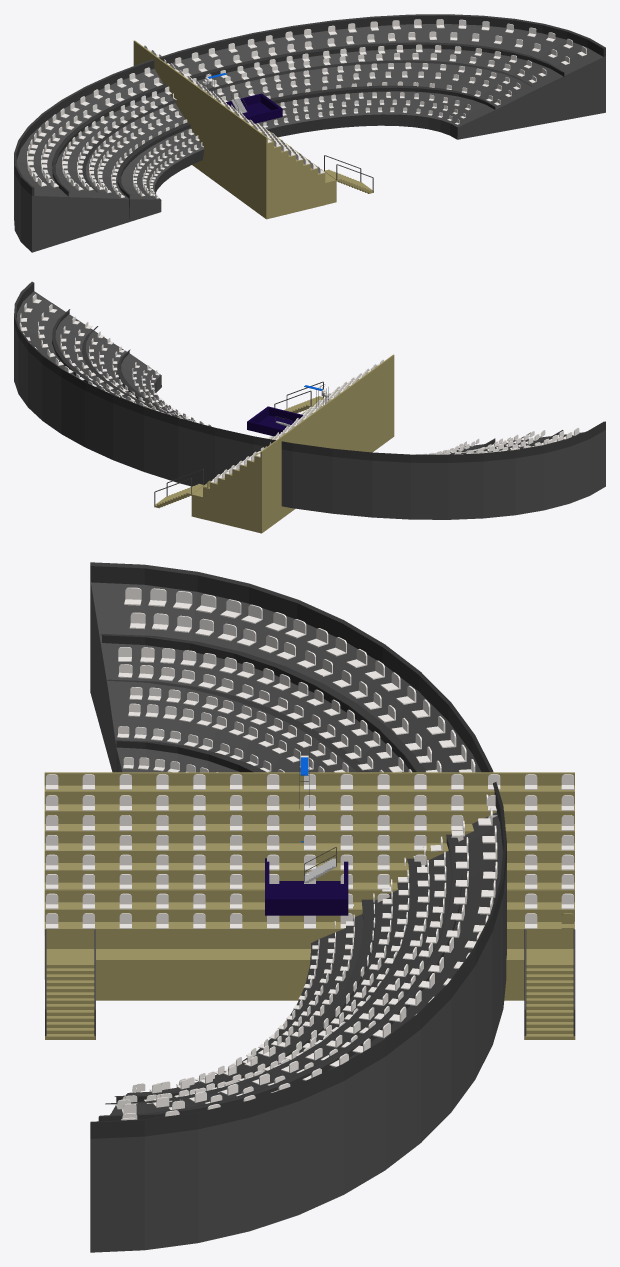
The model's file is yeni çevre.fbx.
The picture shows the model from 3 angles, top to bottom: view 1: azimuth 30°, elevation 25°; view 2: azimuth 150°, elevation 25°; view 3: azimuth 270°, elevation 25°; orthographic projection. The views are drawn at different scales.
Visible parts, largest first — view 1: büyük stad, KOLTUKLU STAD, HAVUZ; view 2: büyük stad, KOLTUKLU STAD, HAVUZ; view 3: büyük stad, KOLTUKLU STAD, HAVUZ.
Part boxes in pixels (bbox=[...]): büyük stad: bbox=[14, 14, 605, 252]; KOLTUKLU STAD: bbox=[133, 40, 373, 219]; HAVUZ: bbox=[202, 72, 282, 123]; büyük stad: bbox=[14, 281, 605, 519]; KOLTUKLU STAD: bbox=[154, 354, 394, 533]; HAVUZ: bbox=[247, 384, 328, 436]; büyük stad: bbox=[90, 562, 506, 1252]; KOLTUKLU STAD: bbox=[44, 772, 575, 1039]; HAVUZ: bbox=[265, 745, 348, 915].
Bounding box in the file's own units: 4848 × 789 × 1942.
